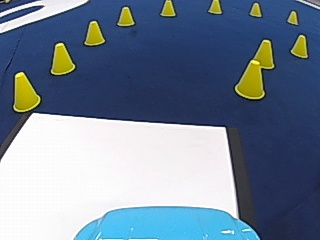cone: (234, 55, 266, 98), (11, 70, 40, 111), (49, 41, 75, 74), (251, 38, 275, 68), (83, 20, 105, 45), (290, 33, 308, 57), (116, 5, 134, 26), (160, 0, 175, 17), (248, 2, 262, 17), (207, 0, 221, 14), (286, 10, 298, 25)
